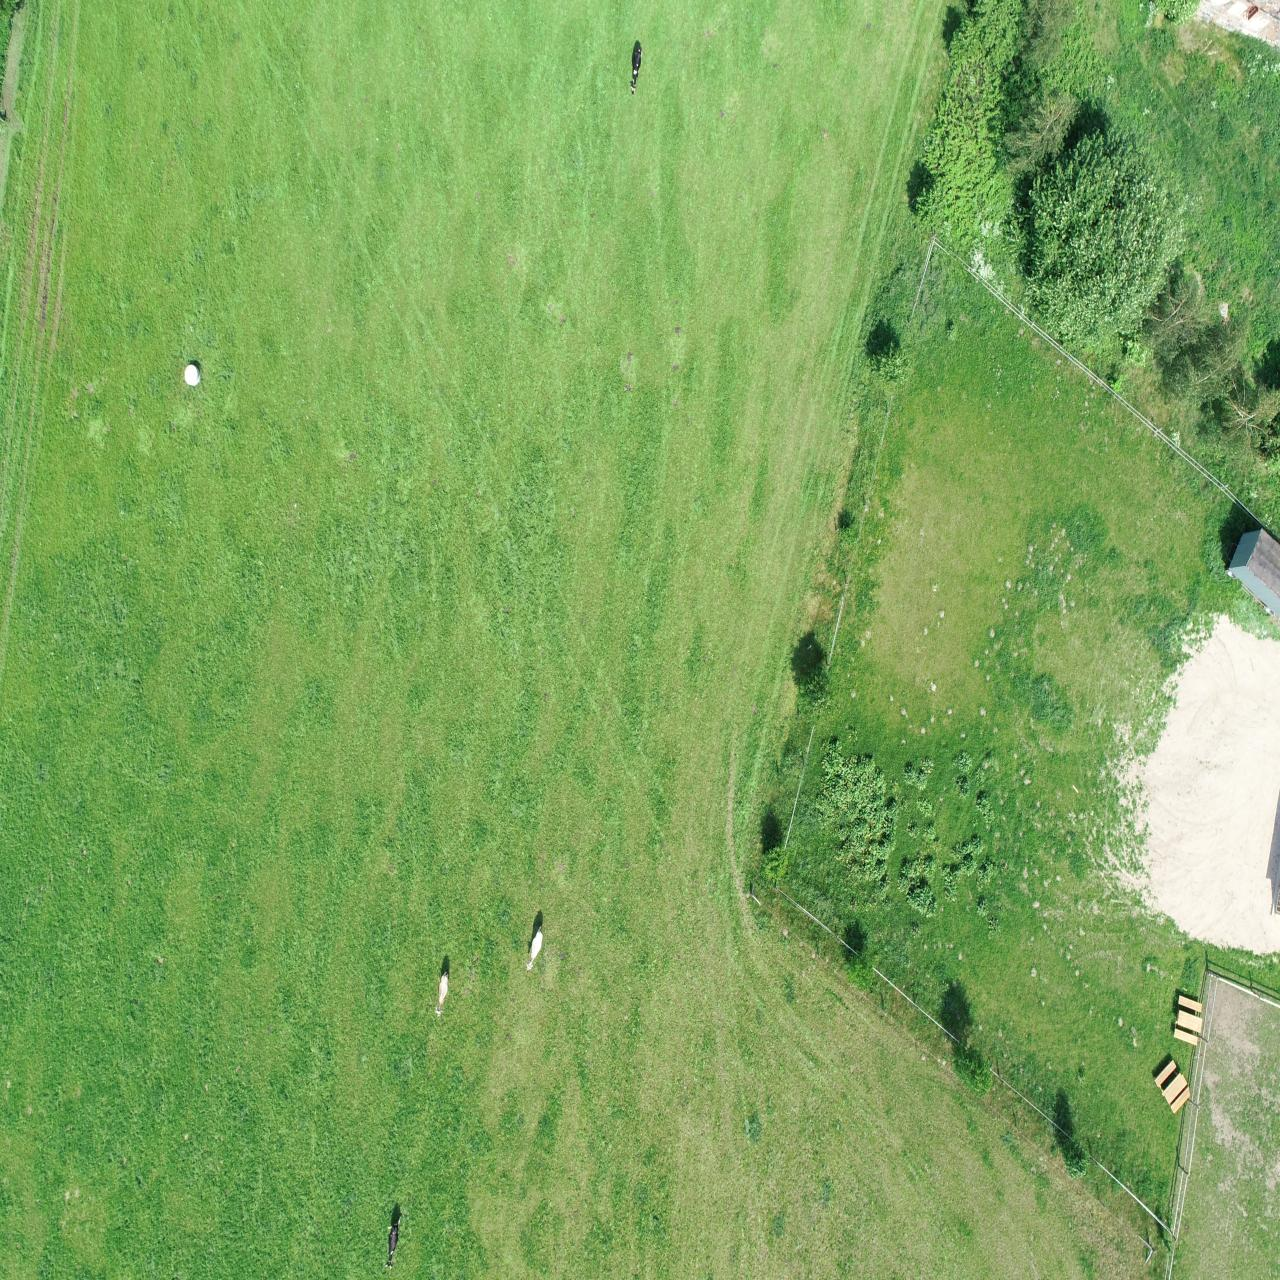cow: (380, 1208, 406, 1269), (431, 968, 454, 1021), (524, 924, 546, 975), (626, 43, 646, 97)
